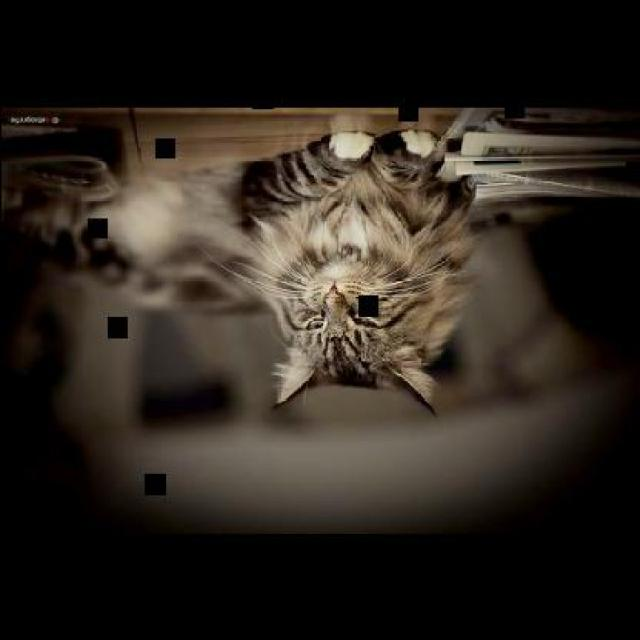unauthorized: (6, 125, 482, 417)
